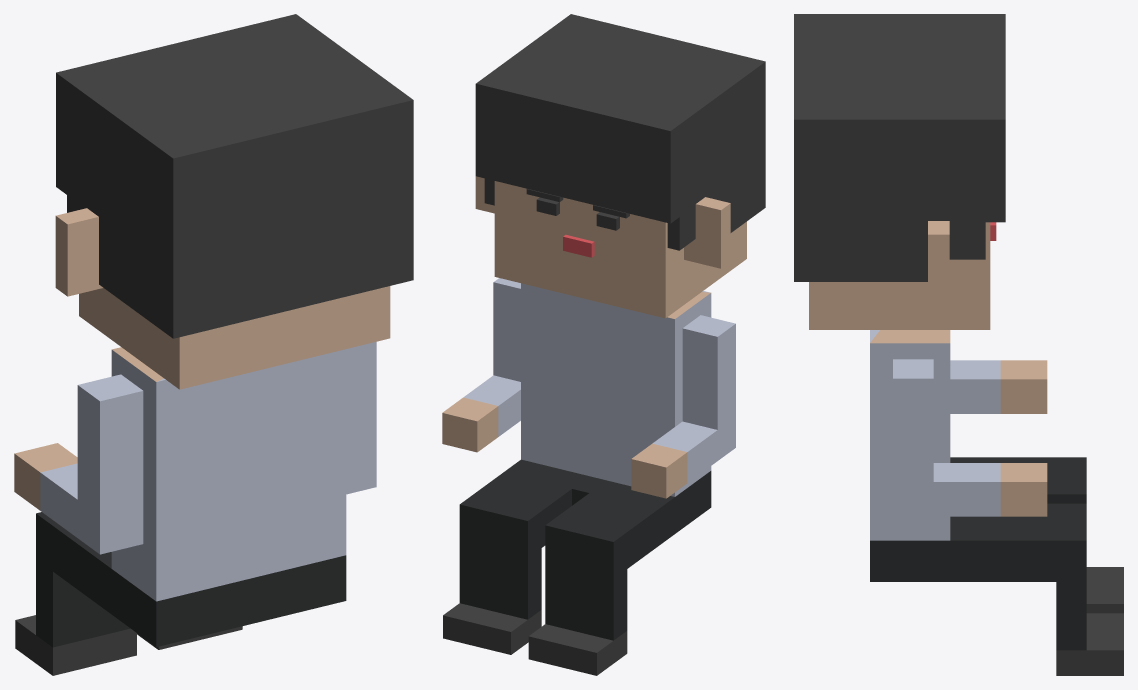
File: customerSit3-1.fbx
3 renders of one model, left to right at view 1: azimuth 30°, elevation 25°; view 2: azimuth 150°, elevation 25°; view 3: azimuth 270°, elevation 25°, orthographic. The views are drawn at different scales.
Parts seen in each view (by area): view 1: customerSit; view 2: customerSit; view 3: customerSit.
Part boxes in pixels (box(x1,y1,x2,y2)): customerSit: box(14, 14, 413, 675); customerSit: box(442, 14, 765, 675); customerSit: box(794, 14, 1123, 675).
Size of the model in its own units: 21.19 by 42.13 by 22.21.
